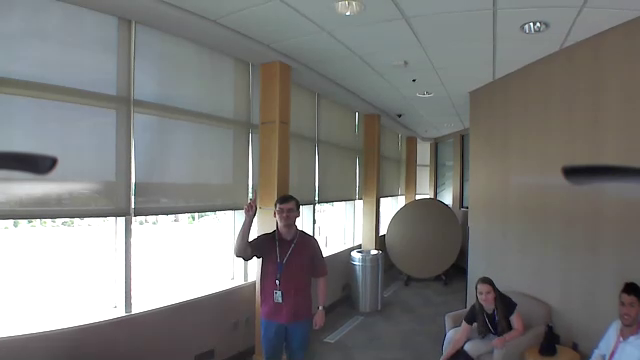up: (238, 185, 262, 221)
